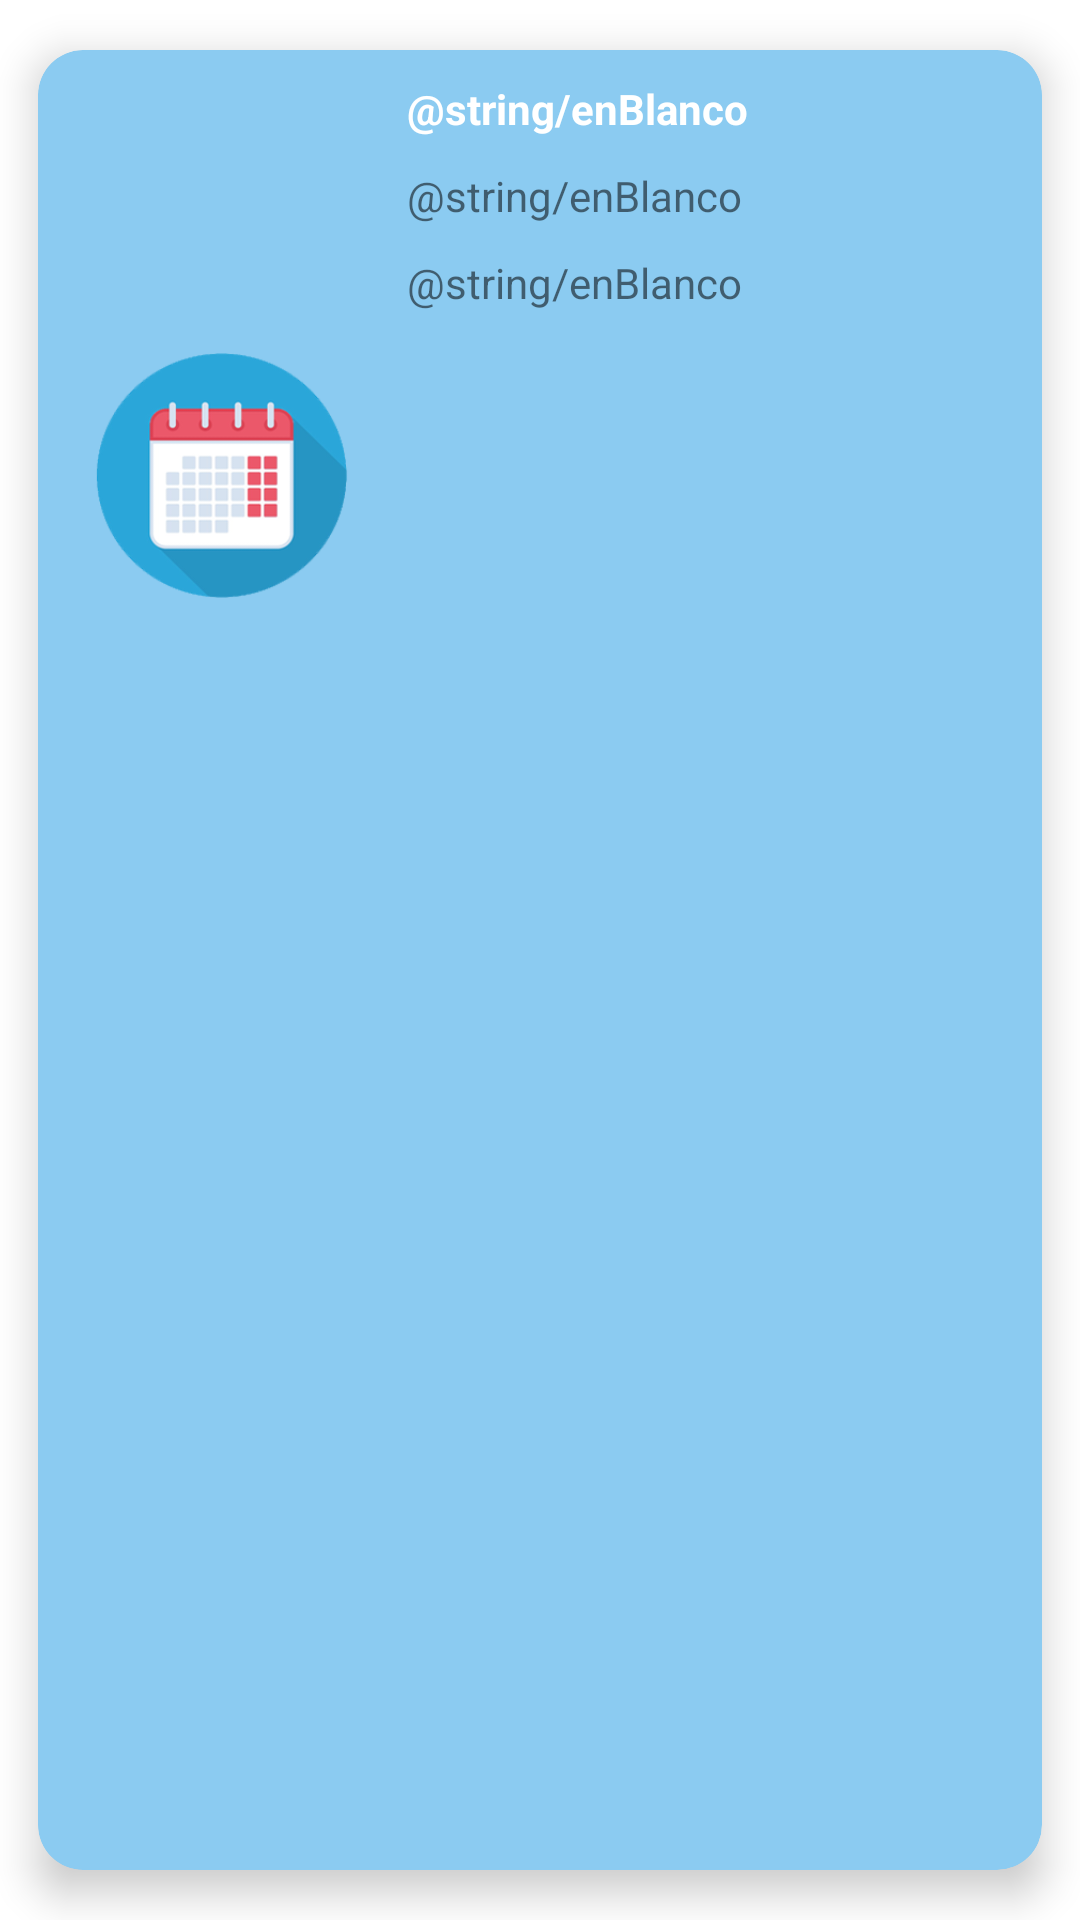

Point at icon controls on the screen. Image size 1080*1920, points as (x,y).
eventscardview: (222,475)
